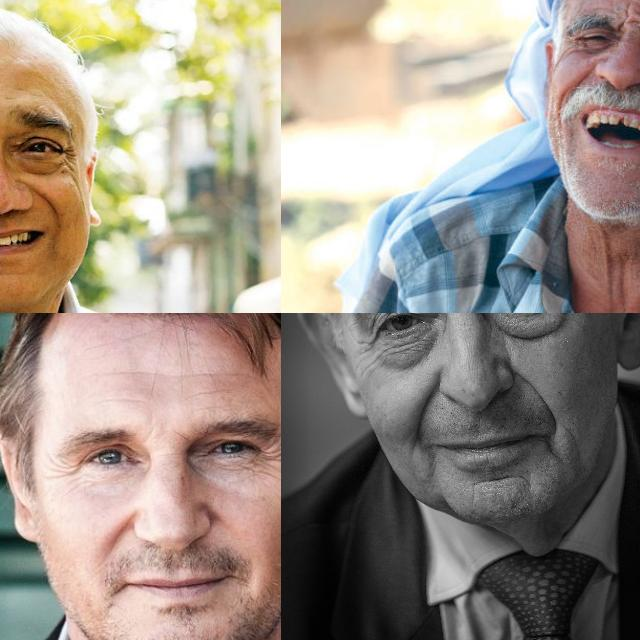chin: (474, 469, 524, 489)
crows_feet: (352, 336, 386, 366), (252, 437, 281, 470), (49, 454, 80, 482), (60, 145, 80, 175), (560, 38, 584, 56), (545, 313, 580, 325)
forehead: (113, 363, 189, 382), (198, 364, 254, 382), (97, 393, 149, 409), (191, 386, 227, 398), (588, 0, 630, 5)
frown_line: (612, 11, 630, 39), (173, 426, 195, 442), (635, 9, 640, 35)
gummy_smile: (523, 371, 561, 421), (414, 381, 442, 434), (107, 508, 129, 552), (38, 190, 62, 213), (567, 70, 591, 92)
